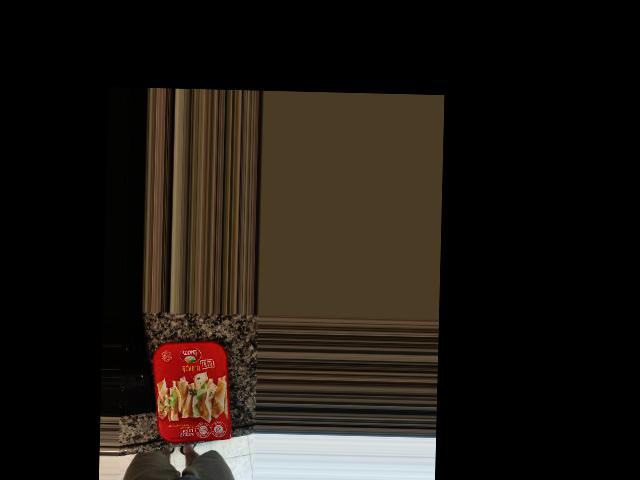cheese: (136, 351, 223, 464)
